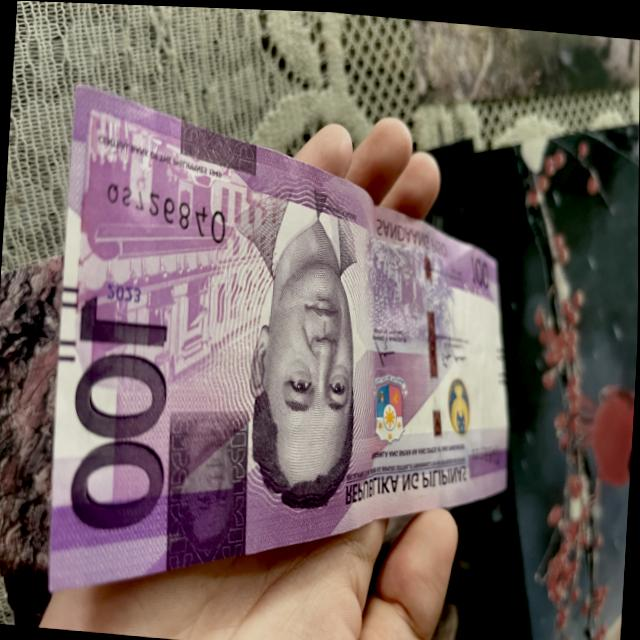concealed_value: (162, 406, 256, 579)
security_thread: (397, 222, 462, 507)
serial_number: (95, 176, 230, 251)
